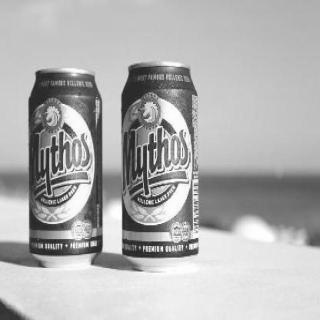alumunium_can: (122, 59, 200, 274), (24, 66, 104, 268)
